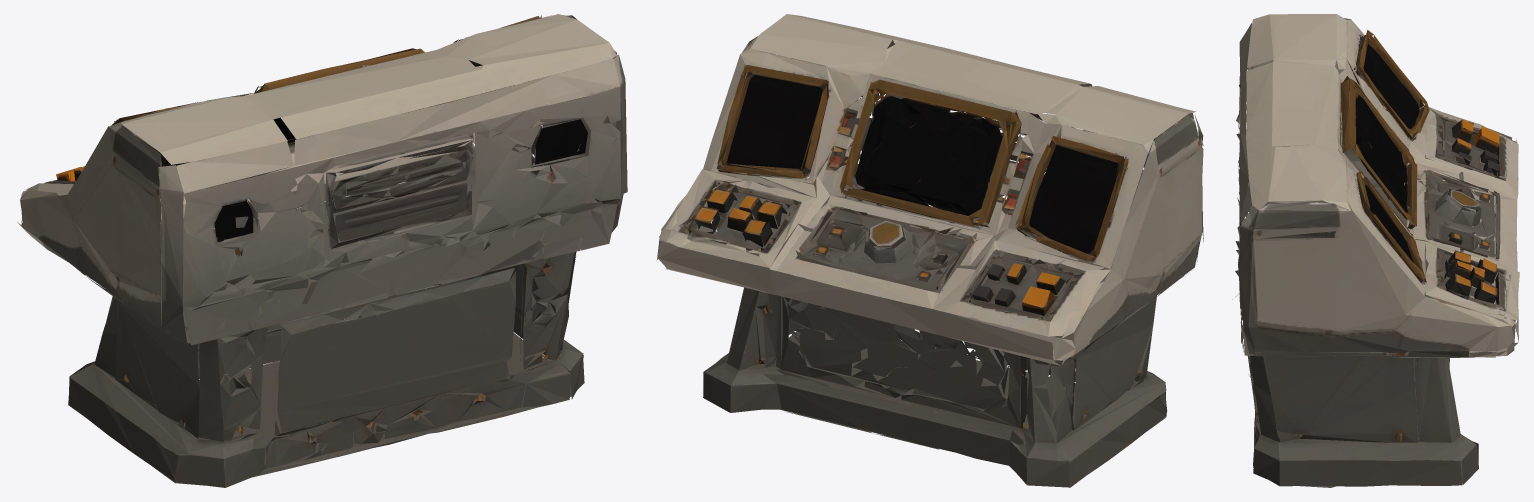
The model's file is console-controle.glb.
3 renders of one model, left to right at view 1: azimuth 30°, elevation 25°; view 2: azimuth 150°, elevation 25°; view 3: azimuth 270°, elevation 25°, orthographic. The views are drawn at different scales.
Visible parts, largest first — view 1: console-controle; view 2: console-controle; view 3: console-controle.
Part boxes in pixels (box(x1,y1,x2,y2)): console-controle: box(17, 14, 627, 487); console-controle: box(656, 14, 1203, 487); console-controle: box(1232, 14, 1519, 487).
Size of the model in its own units: 1.6 by 1.14 by 0.996.
1 material, 1 textured.
